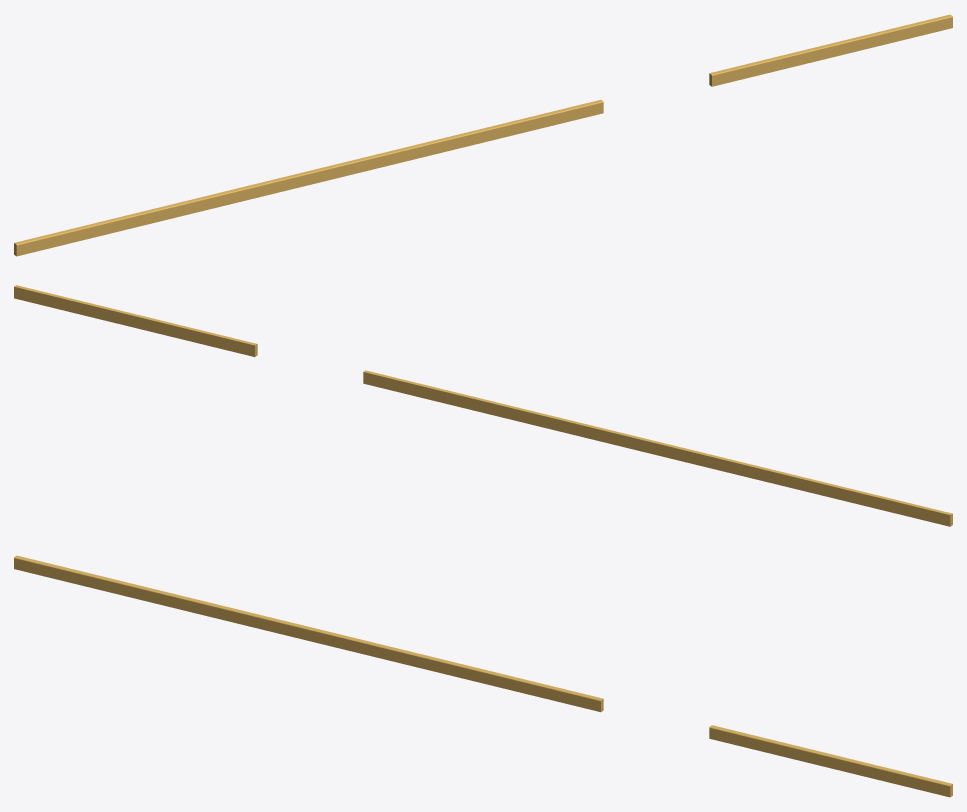
File: WallThingy3.glb
The picture shows the model from 3 angles, top to bottom: view 1: azimuth 30°, elevation 25°; view 2: azimuth 150°, elevation 25°; view 3: azimuth 330°, elevation 25°; orthographic projection.
Parts seen in each view (by area): view 1: Cube.035; view 2: Cube.035; view 3: Cube.035.
Boxes of the visible parts, x1,y1,x2,y2 form: Cube.035: (14, 14, 952, 256); Cube.035: (14, 285, 952, 526); Cube.035: (14, 555, 952, 797).
Size of the model in its own units: 12.58 by 0.15 by 0.061.
